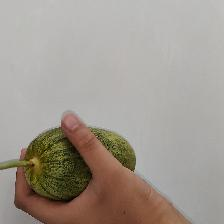gua: (25, 144, 136, 188)
